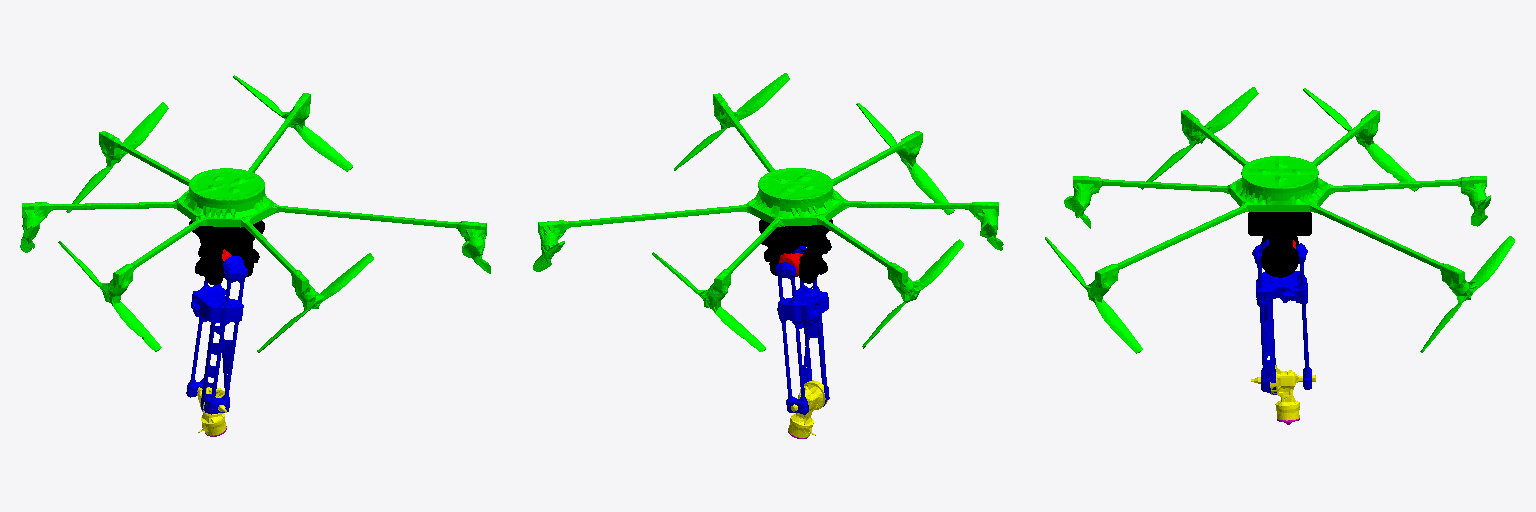
robot.urdf — othex_3d_arm:
<robot name="othex_3d_arm">
  <link name="root_link">
    <inertial>
      <origin xyz="-0.0026057700000000003 2.6285900000000003e-06 -0.0551054" rpy="0 0 0"/>
      <mass value="1.73671"/>
      <inertia ixx="0.102027" ixy="3.49564e-06" ixz="-0.000139376" iyy="0.0882212" iyz="3.14137e-06" izz="0.187815"/>
    </inertial>
    <visual>
      <origin xyz="0 0 -0.03475" rpy="0 0 0"/>
      <geometry>
        <mesh filename="package://meshes/sim_drone.stl" scale="0.001 0.001 0.001"/>
      </geometry>
      <material name="green">
        <color rgba="0 1 0 1"/>
      </material>
    </visual>
    <collision>
      <origin xyz="0 0 -0.03475" rpy="0 0 0"/>
      <geometry>
        <mesh filename="package://meshes/sim_drone.stl" scale="0.001 0.001 0.001"/>
      </geometry>
    </collision>
  </link>
  <link name="frame_prop_6"/>
  <joint name="frame_prop_6_fixed_joint" type="fixed">
    <origin xyz="0.36089 -0.371224 -0.10081690000000001" rpy="-0.618076381244 -0.142727918556 -0.640970632391"/>
    <parent link="root_link"/>
    <child link="frame_prop_6"/>
    <dynamics damping="0.1"/>
  </joint>
  <link name="frame_prop_5"/>
  <joint name="frame_prop_5_fixed_joint" type="fixed">
    <origin xyz="-0.0221766 -0.39737700000000004 -0.10081690000000001" rpy="0.618076202381 -0.142728250329 -1.80249069312"/>
    <parent link="root_link"/>
    <child link="frame_prop_5"/>
    <dynamics damping="0.1"/>
  </joint>
  <link name="frame_prop_4"/>
  <joint name="frame_prop_4_fixed_joint" type="fixed">
    <origin xyz="-0.365744 -0.156834 -0.10065560000000001" rpy="-0.618076126447 -0.142728328901 -2.56083329174"/>
    <parent link="root_link"/>
    <child link="frame_prop_4"/>
    <dynamics damping="0.1"/>
  </joint>
  <link name="frame_prop_3"/>
  <joint name="frame_prop_3_fixed_joint" type="fixed">
    <origin xyz="-0.365827 0.15675 -0.10081690000000001" rpy="0.618076126447 -0.142728328901 2.56083329174"/>
    <parent link="root_link"/>
    <child link="frame_prop_3"/>
    <dynamics damping="0.1"/>
  </joint>
  <link name="frame_prop_2"/>
  <joint name="frame_prop_2_fixed_joint" type="fixed">
    <origin xyz="-0.0221766 0.39737700000000004 -0.10081690000000001" rpy="-0.618076202381 -0.142728250329 1.80249069312"/>
    <parent link="root_link"/>
    <child link="frame_prop_2"/>
    <dynamics damping="0.1"/>
  </joint>
  <link name="frame_prop_1"/>
  <joint name="frame_prop_1_fixed_joint" type="fixed">
    <origin xyz="0.36089 0.371224 -0.10081690000000001" rpy="0.618076381244 -0.142727918556 0.640970632391"/>
    <parent link="root_link"/>
    <child link="frame_prop_1"/>
    <dynamics damping="0.1"/>
  </joint>
  <link name="3d_arm_base">
    <inertial>
      <origin xyz="0 4.4488606248639985e-07 0.03939519999999999" rpy="3.14159265359 0 0"/>
      <mass value="0.616668"/>
      <inertia ixx="0.000971781" ixy="-3.73057e-05" ixz="0.0" iyy="0.00113048" iyz="0.0" izz="0.00113892"/>
    </inertial>
    <visual>
      <origin xyz="0 0 -0.040549999999999975" rpy="3.14159265359 0 0"/>
      <geometry>
        <mesh filename="package://meshes/sim_3d_arm_base.stl" scale="0.001 0.001 0.001"/>
      </geometry>
      <material name="black">
        <color rgba="0 0 0 1"/>
      </material>
    </visual>
    <collision>
      <origin xyz="0 0 -0.040549999999999975" rpy="3.14159265359 0 0"/>
      <geometry>
        <mesh filename="package://meshes/sim_3d_arm_base.stl" scale="0.001 0.001 0.001"/>
      </geometry>
    </collision>
  </link>
  <joint name="3d_arm_base_FT_sensor" type="fixed">
    <origin xyz="0 0 -0.0753" rpy="3.14159265359 0 0"/>
    <parent link="root_link"/>
    <child link="3d_arm_base"/>
    <dynamics damping="0.1"/>
  </joint>
  <link name="3d_arm_link1">
    <inertial>
      <origin xyz="-0.054999073119 0.0078607 0.0002829999999999777" rpy="0 0 0"/>
      <mass value="0.0359043"/>
      <inertia ixx="1.07488e-05" ixy="1.40772e-10" ixz="0.0" iyy="6.04367e-06" iyz="-3.20421e-07" izz="1.28486e-05"/>
    </inertial>
    <visual>
      <origin xyz="-0.055 0 0.13695" rpy="0 0 0"/>
      <geometry>
        <mesh filename="package://meshes/sim_3d_arm_link1.stl" scale="0.001 0.001 0.001"/>
      </geometry>
      <material name="red">
        <color rgba="1 0 0 1"/>
      </material>
    </visual>
    <collision>
      <origin xyz="-0.055 0 0.13695" rpy="0 0 0"/>
      <geometry>
        <mesh filename="package://meshes/sim_3d_arm_link1.stl" scale="0.001 0.001 0.001"/>
      </geometry>
    </collision>
  </link>
  <joint name="3d_arm_link1_roll" type="revolute">
    <origin xyz="0.055000000000060445 0 0.09639999999999996" rpy="3.14159265359 0 0"/>
    <axis xyz="1.0 0.0 0.0"/>
    <parent link="3d_arm_base"/>
    <child link="3d_arm_link1"/>
    <limit effort="50000" lower="-0.785398163397" upper="0.785398163397" velocity="50000"/>
    <dynamics damping="1.0"/>
  </joint>
  <link name="3d_arm_link2">
    <inertial>
      <origin xyz="-0.0256328 0.02574106 -0.13242299999999996" rpy="0 0 0"/>
      <mass value="0.32835"/>
      <inertia ixx="0.00313486" ixy="7.71013e-06" ixz="-0.000237211" iyy="0.00293735" iyz="-5.06684e-06" izz="0.000455577"/>
    </inertial>
    <visual>
      <origin xyz="0 0.022977599999999904 0.13796500000000014" rpy="0 0 0"/>
      <geometry>
        <mesh filename="package://meshes/sim_3d_arm_link2.stl" scale="0.001 0.001 0.001"/>
      </geometry>
      <material name="blue">
        <color rgba="0 0 1 1"/>
      </material>
    </visual>
    <collision>
      <origin xyz="0 0.022977599999999904 0.13796500000000014" rpy="0 0 0"/>
      <geometry>
        <mesh filename="package://meshes/sim_3d_arm_link2.stl" scale="0.001 0.001 0.001"/>
      </geometry>
    </collision>
  </link>
  <joint name="3d_arm_link2_pitch" type="revolute">
    <origin xyz="-0.055 -0.0229776 -0.0010150000000000159" rpy="0 0 0"/>
    <axis xyz="0.0 -0.999025 -0.0441471"/>
    <parent link="3d_arm_link1"/>
    <child link="3d_arm_link2"/>
    <limit effort="50000" lower="-1.57079632679" upper="1.57079632679" velocity="50000"/>
    <dynamics damping="1.0"/>
  </joint>
  <link name="3d_arm_upper_link3">
    <inertial>
      <origin xyz="0.0119854 -0.09183700000000002 -0.052727000000000024" rpy="0 0 0"/>
      <mass value="0.194297"/>
      <inertia ixx="0.000233643" ixy="-4.28662e-06" ixz="3.80758e-05" iyy="0.00020826" iyz="1.58754e-05" izz="8.9194e-05"/>
    </inertial>
    <visual>
      <origin xyz="0.0355641000000011 -0.10577699999994059 0.425409999998654" rpy="0 0 0"/>
      <geometry>
        <mesh filename="package://meshes/sim_3d_arm_link3_prt1.stl" scale="0.001 0.001 0.001"/>
      </geometry>
      <material name="yellow">
        <color rgba="1 1 0 1"/>
      </material>
    </visual>
    <collision>
      <origin xyz="0.0355641000000011 -0.10577699999994059 0.425409999998654" rpy="0 0 0"/>
      <geometry>
        <mesh filename="package://meshes/sim_3d_arm_link3_prt1.stl" scale="0.001 0.001 0.001"/>
      </geometry>
    </collision>
  </link>
  <joint name="3d_arm_link3_pitch" type="revolute">
    <origin xyz="-0.0355641 0.1287546 -0.287445" rpy="0 0 0"/>
    <axis xyz="0.0 -0.999025 -0.0441471"/>
    <parent link="3d_arm_link2"/>
    <child link="3d_arm_upper_link3"/>
    <limit effort="50000" lower="-1.83259571459" upper="1.57079632679" velocity="50000"/>
    <dynamics damping="1.0"/>
  </joint>
  <link name="3d_arm_lower_link3">
    <inertial>
      <origin xyz="0 0 0.0026028717297972292" rpy="3.09743122163 -0.241285371067 0"/>
      <mass value="0.00740402"/>
      <inertia ixx="8.68795e-07" ixy="7.44608e-09" ixz="-1.68498e-07" iyy="8.28626e-07" iyz="-3.02289e-08" izz="1.51135e-06"/>
    </inertial>
    <visual>
      <origin xyz="0.13720266665028258 -0.006045869936857007 -0.48651961986727393" rpy="3.09743122163 -0.241285371067 0"/>
      <geometry>
        <mesh filename="package://meshes/sim_3d_arm_link3_prt2.stl" scale="0.001 0.001 0.001"/>
      </geometry>
      <material name="pink">
        <color rgba="1 0 1 1"/>
      </material>
    </visual>
    <collision>
      <origin xyz="0.13720266665028258 -0.006045869936857007 -0.48651961986727393" rpy="3.09743122163 -0.241285371067 0"/>
      <geometry>
        <mesh filename="package://meshes/sim_3d_arm_link3_prt2.stl" scale="0.001 0.001 0.001"/>
      </geometry>
    </collision>
  </link>
  <joint name="3d_arm_endEff_FT_sensor" type="fixed">
    <origin xyz="0.0185903 -0.0895134 -0.079575" rpy="-3.09611556086 -0.241045460818 -0.0108632691777"/>
    <parent link="3d_arm_upper_link3"/>
    <child link="3d_arm_lower_link3"/>
    <dynamics damping="0.1"/>
  </joint>
</robot>

--- Facts derived from the render (not from the file) ---
3 views of the same robot in one strip: view 1: azimuth 30°, elevation 25°; view 2: azimuth 150°, elevation 25°; view 3: azimuth 270°, elevation 25° (orthographic).
Robot: othex_3d_arm — 12 links, 11 joints (3 revolute, 8 fixed); root link root_link; default pose: all joints at 0.
Visible links, largest first — view 1: root_link, 3d_arm_link2, 3d_arm_base, 3d_arm_upper_link3; view 2: root_link, 3d_arm_link2, 3d_arm_base, 3d_arm_upper_link3; view 3: root_link, 3d_arm_link2, 3d_arm_base, 3d_arm_upper_link3.
Link boxes in pixels (<box>): root_link: <box>20,75,490,352</box>; 3d_arm_link2: <box>186,256,247,414</box>; 3d_arm_base: <box>189,220,264,284</box>; 3d_arm_upper_link3: <box>197,387,226,435</box>; root_link: <box>533,73,1003,351</box>; 3d_arm_link2: <box>775,246,829,414</box>; 3d_arm_base: <box>759,219,832,283</box>; 3d_arm_upper_link3: <box>788,380,827,437</box>; root_link: <box>1045,87,1514,353</box>; 3d_arm_link2: <box>1252,239,1311,394</box>; 3d_arm_base: <box>1248,212,1311,277</box>; 3d_arm_upper_link3: <box>1251,365,1315,420</box>.
Size in the robot's own frame: 0.8737 by 0.9258 by 0.5585 metres.
6 mesh visuals loaded from 6 distinct referenced files (6 binary STL).